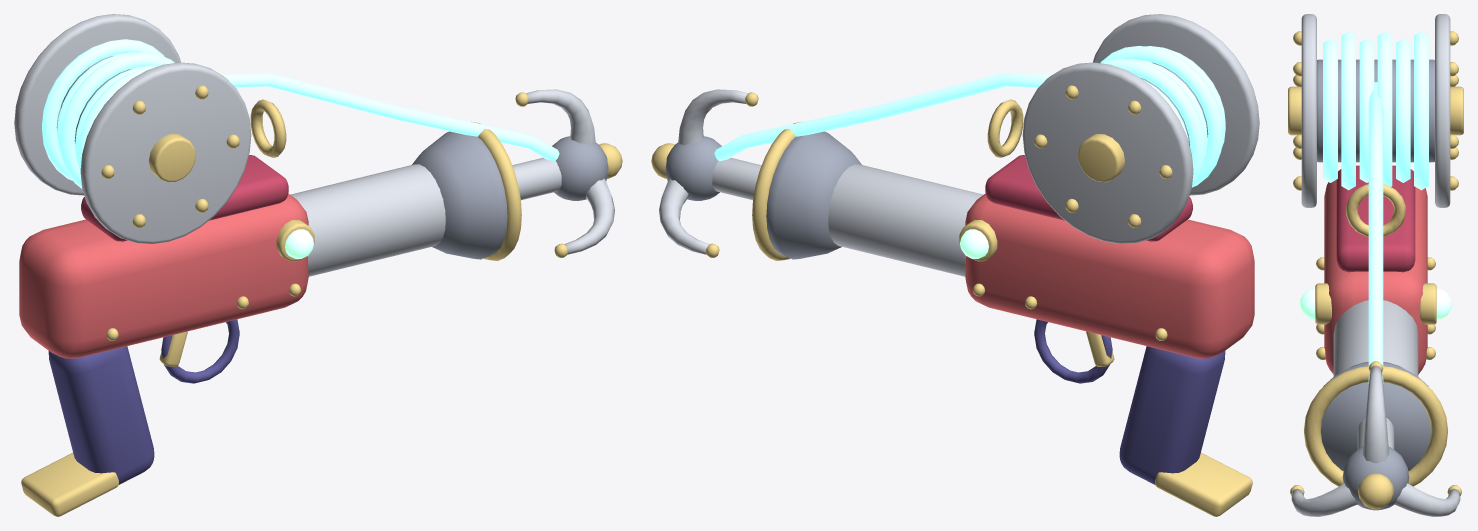
File: weap_hook.glb
The picture shows the model from 3 angles, left to right: view 1: azimuth 30°, elevation 25°; view 2: azimuth 150°, elevation 25°; view 3: azimuth 270°, elevation 25°; orthographic projection.
Visible parts, largest first — view 1: W_Hook__hk_steel, W_Hook__hk_red, W_Hook__hk_cable, W_Hook__hk_gold, W_Hook__hk_navy, W_Hook__hk_steeld, W_Hook__hk_redd, W_Hook__hk_green; view 2: W_Hook__hk_steel, W_Hook__hk_red, W_Hook__hk_gold, W_Hook__hk_cable, W_Hook__hk_navy, W_Hook__hk_steeld, W_Hook__hk_redd, W_Hook__hk_green; view 3: W_Hook__hk_cable, W_Hook__hk_steel, W_Hook__hk_gold, W_Hook__hk_steeld, W_Hook__hk_red, W_Hook__hk_redd, W_Hook__hk_green.
Part boxes in pixels (x1,y1,x2,y2): W_Hook__hk_steel: [14, 14, 614, 276]; W_Hook__hk_red: [19, 193, 308, 358]; W_Hook__hk_cable: [42, 39, 559, 188]; W_Hook__hk_gold: [21, 85, 622, 516]; W_Hook__hk_navy: [48, 319, 239, 484]; W_Hook__hk_steeld: [61, 66, 608, 259]; W_Hook__hk_redd: [81, 155, 288, 241]; W_Hook__hk_green: [285, 229, 313, 258]; W_Hook__hk_steel: [659, 14, 1259, 276]; W_Hook__hk_red: [965, 193, 1254, 358]; W_Hook__hk_gold: [651, 85, 1252, 516]; W_Hook__hk_cable: [714, 46, 1225, 187]; W_Hook__hk_navy: [1034, 319, 1225, 484]; W_Hook__hk_steeld: [665, 62, 1208, 259]; W_Hook__hk_redd: [985, 155, 1192, 241]; W_Hook__hk_green: [960, 229, 988, 258]; W_Hook__hk_cable: [1323, 31, 1428, 383]; W_Hook__hk_steel: [1291, 14, 1460, 516]; W_Hook__hk_gold: [1288, 31, 1463, 509]; W_Hook__hk_steeld: [1317, 59, 1434, 510]; W_Hook__hk_red: [1324, 170, 1427, 374]; W_Hook__hk_redd: [1336, 165, 1415, 272]; W_Hook__hk_green: [1299, 288, 1452, 319].
Bounding box in the file's own units: 1.13 × 0.8105 × 0.29.
